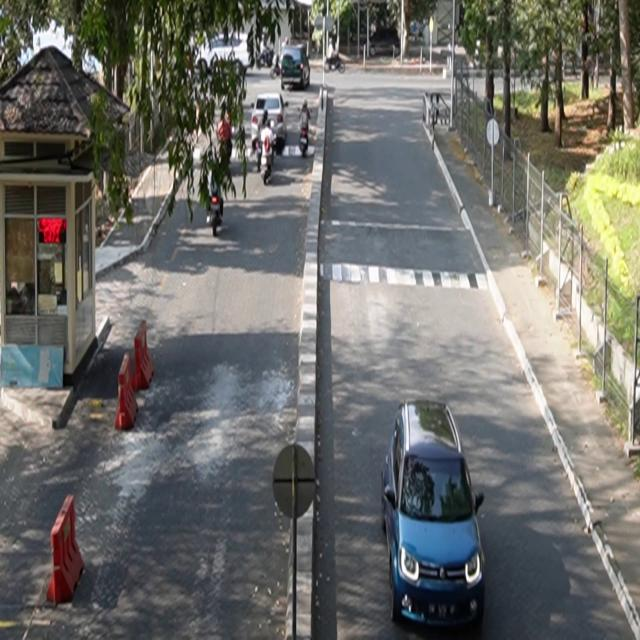car: (382, 400, 487, 631), (251, 94, 290, 152)
